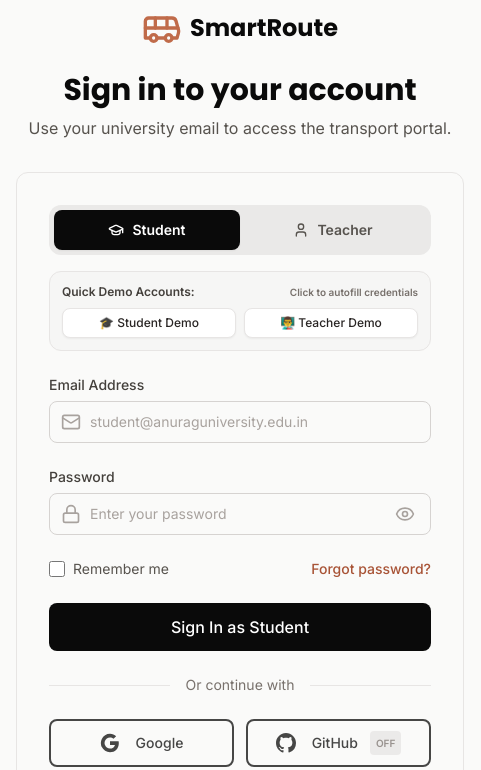
LoginPage Component › toggles password visibility between password and text input types
Click the button named "show password".
click(405, 514)  # box x1=391 y1=500 x2=419 y2=528
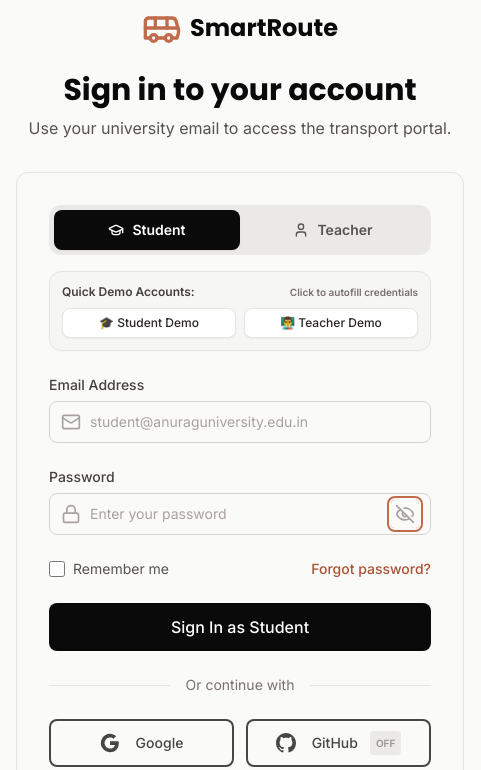
Now the button named "hide password" is shown
Click the button named "hide password".
click(405, 514)  # box x1=391 y1=500 x2=419 y2=528
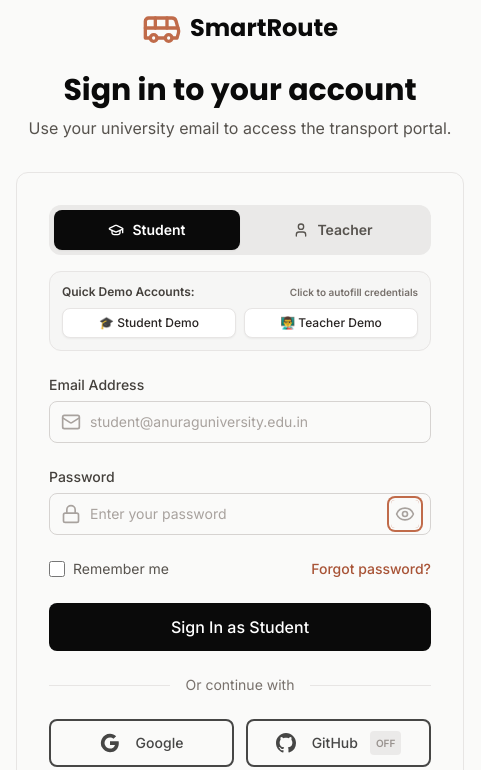
Now the button named "show password" is shown, box x1=391 y1=500 x2=419 y2=528
